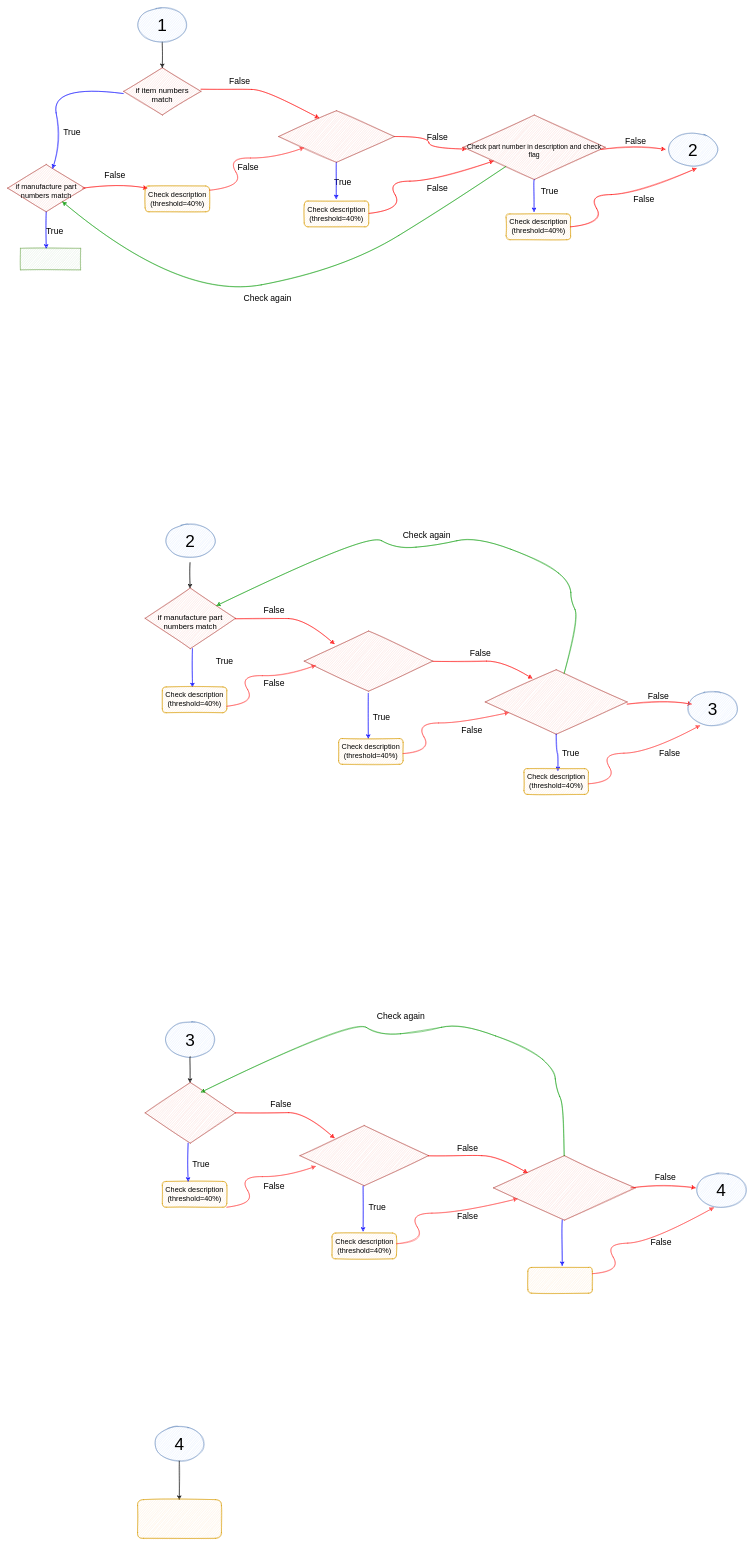
Image size: 755x1546. Some labels were removed from this diagram. The box of each missing label's shape, as (x1, y1, x2, y2) in pixels:
Check description (threshold=60%): (527, 1267, 592, 1293)
Check manufacture name in description: (493, 1155, 635, 1220)
Check part number in description: (485, 669, 627, 734)
Fetch data: (20, 248, 81, 270)
If item number matches with manufacture part number: (278, 110, 394, 162)
If manufacture name match with vendor: (299, 1125, 428, 1186)
if manufacture names match: (145, 1082, 235, 1143)
If manufacture part number match with item number: (304, 631, 433, 691)
Measure similarity of descriptions based on threshold value: (137, 1499, 221, 1538)
